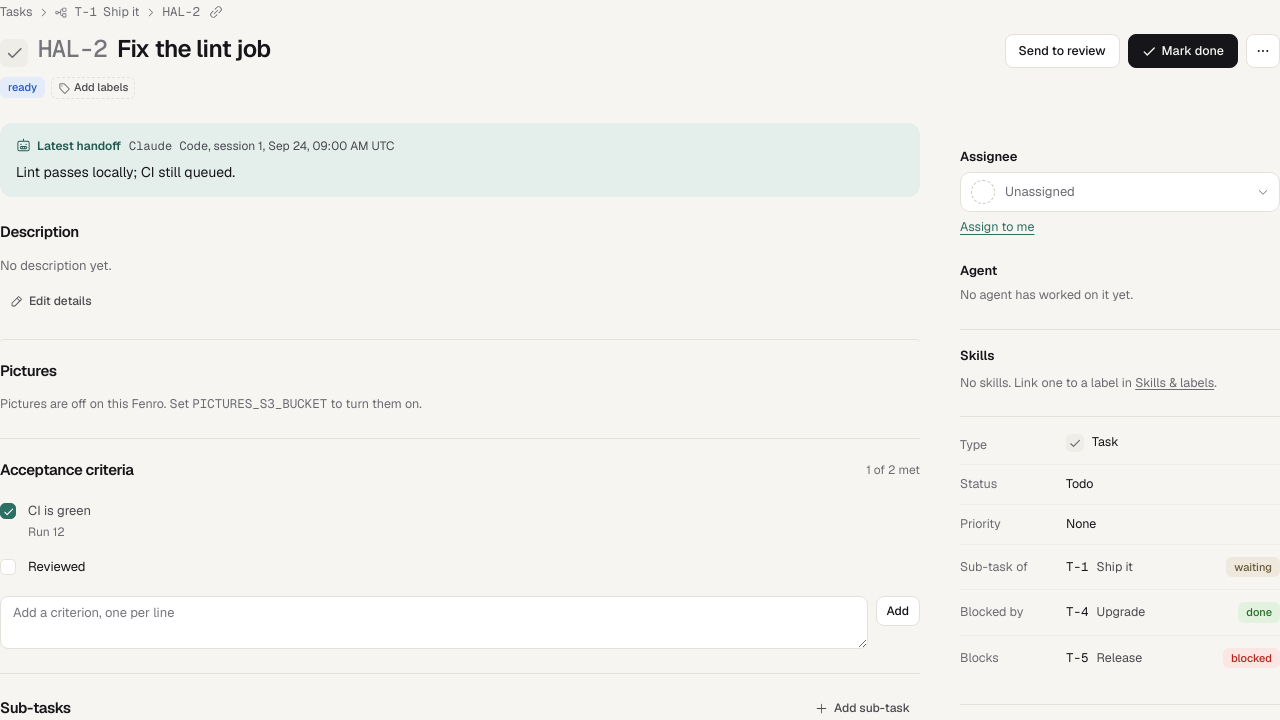
Test: assignees › assigns a group task as soon as a member is picked
The width and height of the screenshot is (1280, 720).
Click the button with aria-label "Unassigned. Assign someone" at (1040, 192), box x1=960 y1=172 x2=1279 y2=212
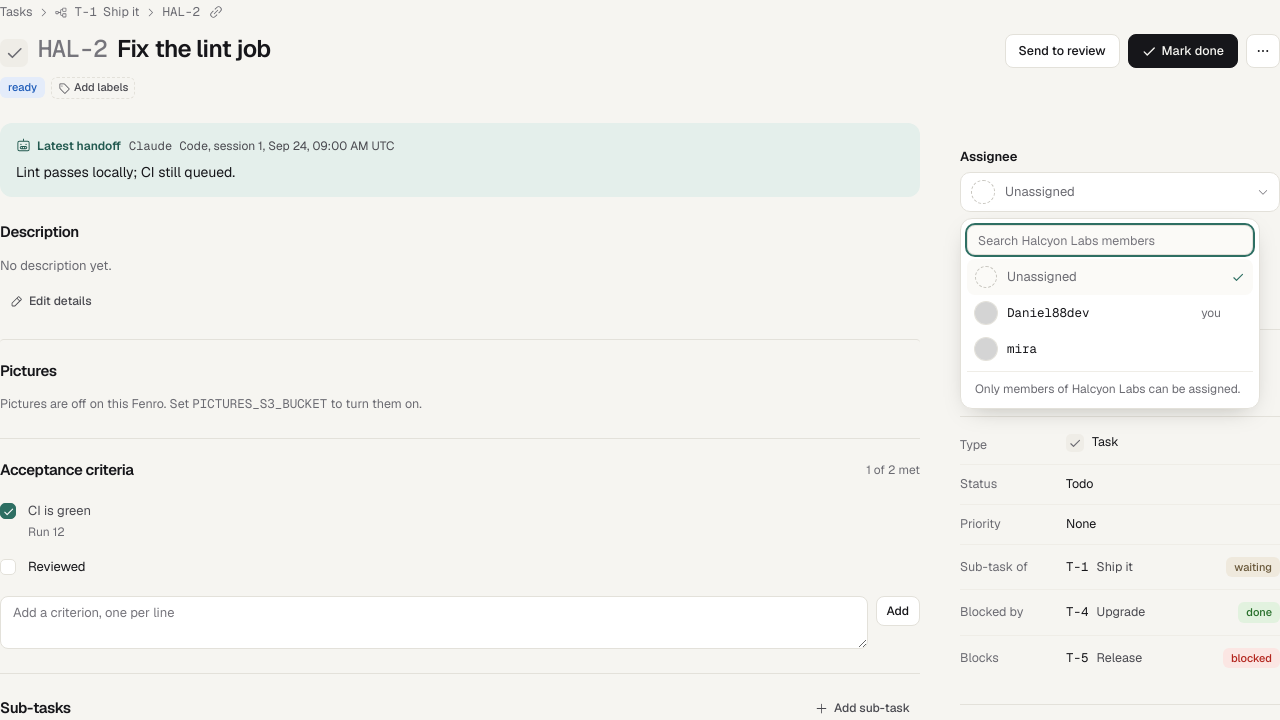
Click the button "mira" at (1022, 348), box x1=967 y1=331 x2=1253 y2=367
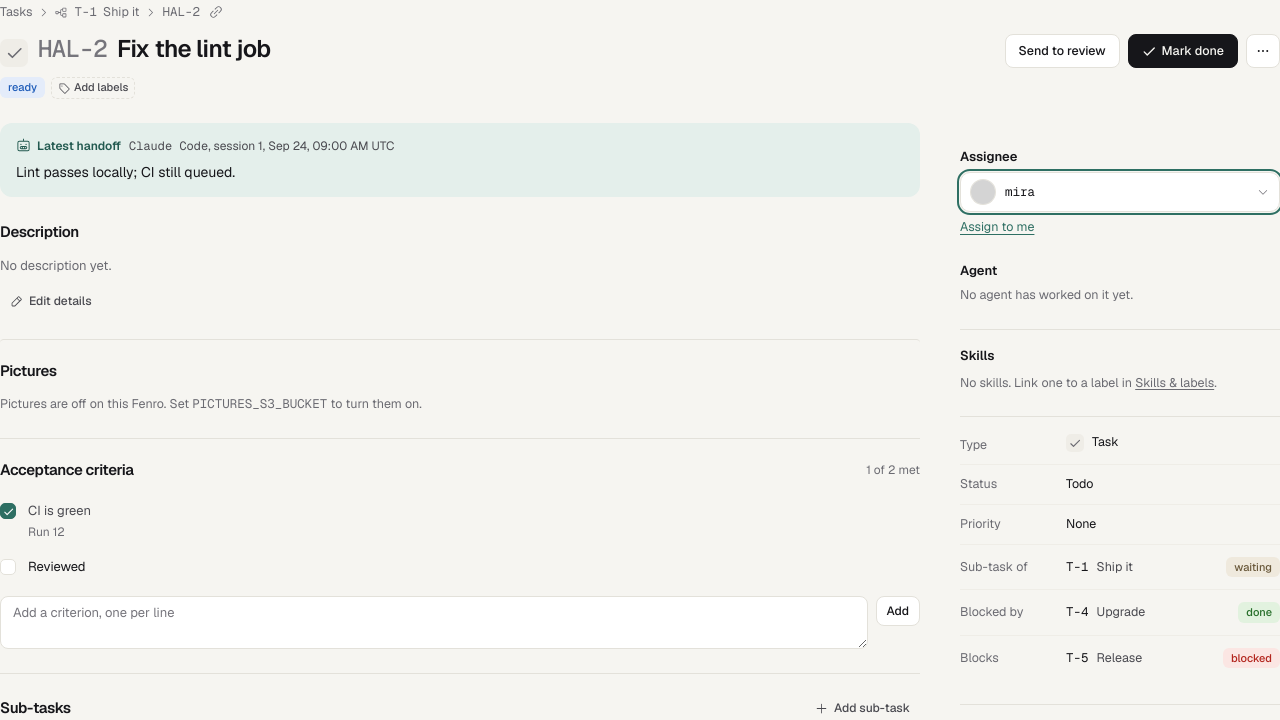
Check: the 1st text "HAL-2" is shown, box x1=162 y1=3 x2=200 y2=21
Check: the text "mira" is shown, box x1=1005 y1=183 x2=1035 y2=200
Click the button "Assign to me" at (997, 227), box x1=960 y1=218 x2=1034 y2=237
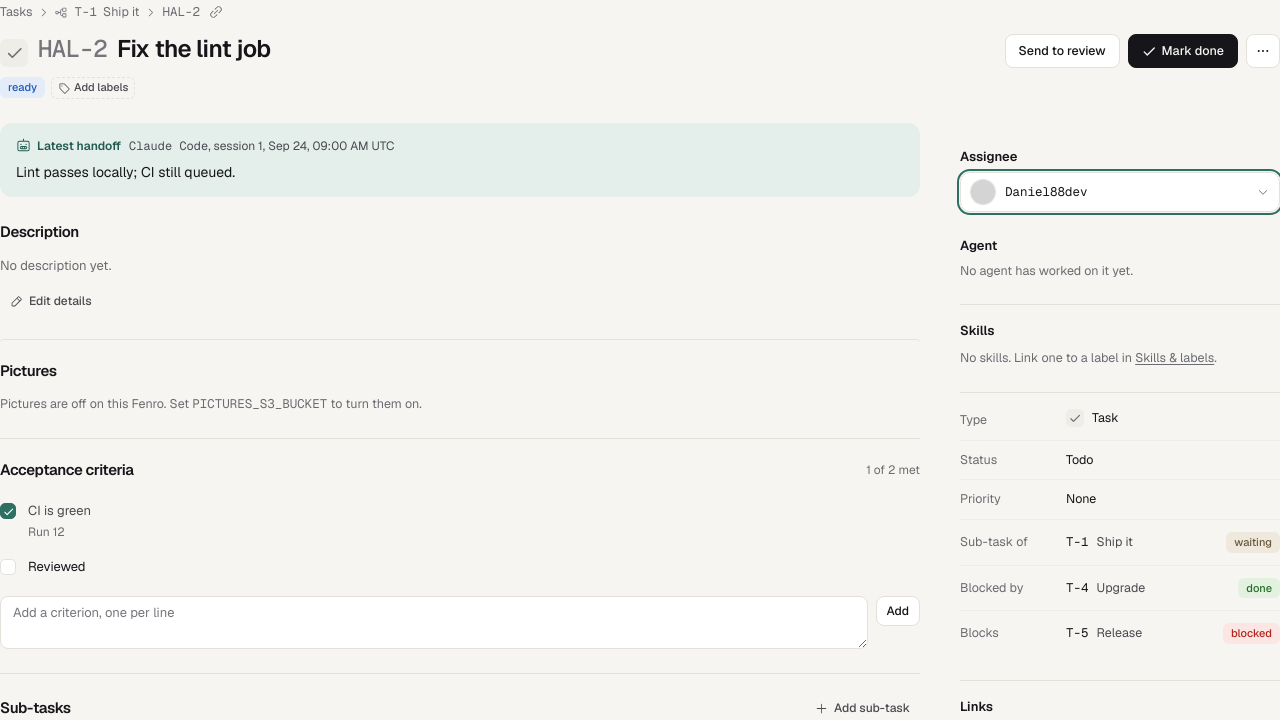
Check: the text "Daniel88dev" is shown, box x1=1005 y1=183 x2=1088 y2=200
